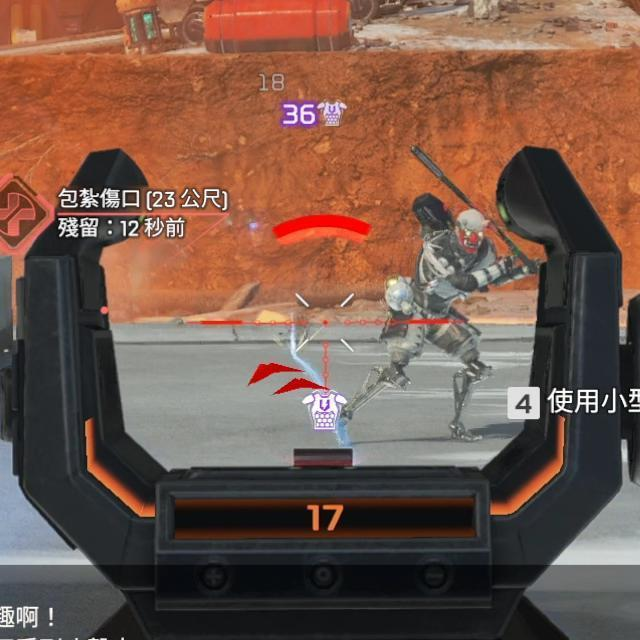avatar: (378, 205, 501, 444)
